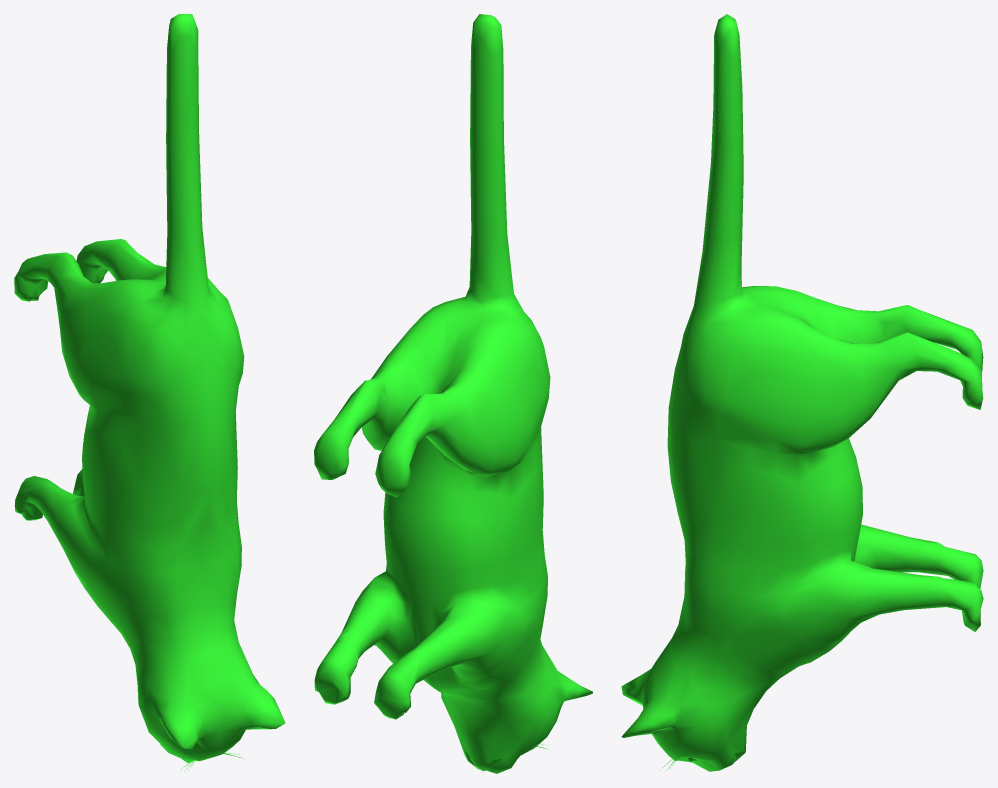
Rendered from Cat.obj.
3 renders of one model, left to right at view 1: azimuth 30°, elevation 25°; view 2: azimuth 150°, elevation 25°; view 3: azimuth 270°, elevation 25°, orthographic. The views are drawn at different scales.
Visible parts, largest first — view 1: Cat; view 2: Cat; view 3: Cat.
Boxes of the visible parts, <box> form: Cat: <box>14,14,285,771</box>; Cat: <box>314,14,592,773</box>; Cat: <box>621,14,983,771</box>.
Size of the model in its own units: 0.1901 by 1 by 0.4359.
